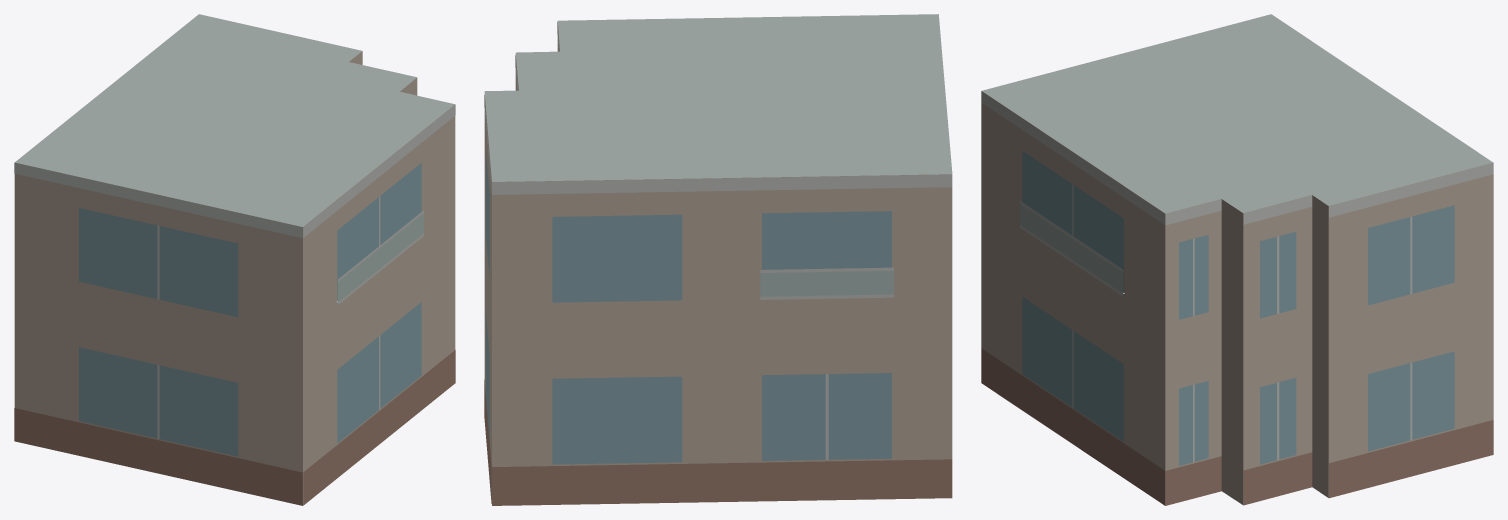
The model's file is survey-upis-32836485.glb.
The picture shows the model from 3 angles, left to right: view 1: azimuth 30°, elevation 25°; view 2: azimuth 150°, elevation 25°; view 3: azimuth 270°, elevation 25°; orthographic projection. The views are drawn at different scales.
Visible parts, largest first — view 1: survey-upis-32836485.tmp; view 2: survey-upis-32836485.tmp; view 3: survey-upis-32836485.tmp.
Boxes of the visible parts, <box> form: survey-upis-32836485.tmp: <box>14,14,455,505</box>; survey-upis-32836485.tmp: <box>484,14,952,505</box>; survey-upis-32836485.tmp: <box>981,14,1493,505</box>.
Bounding box in the file's own units: 8.95 × 6.1 × 9.7.
